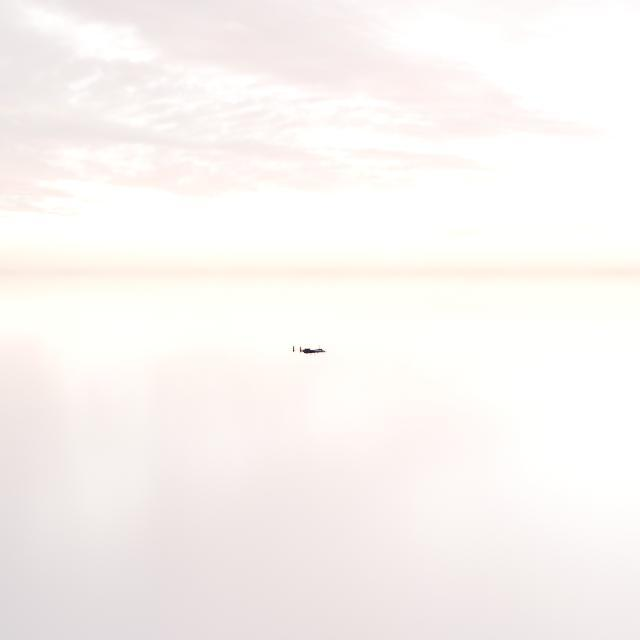Airaplan: (292, 345, 329, 356)
